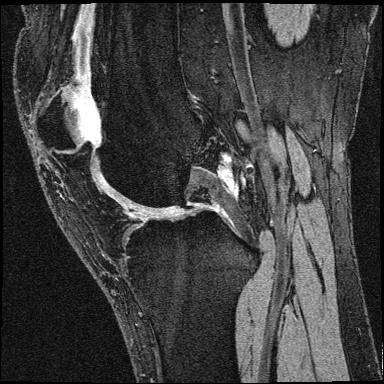SagKneeJointArea: (36, 89, 261, 284)
